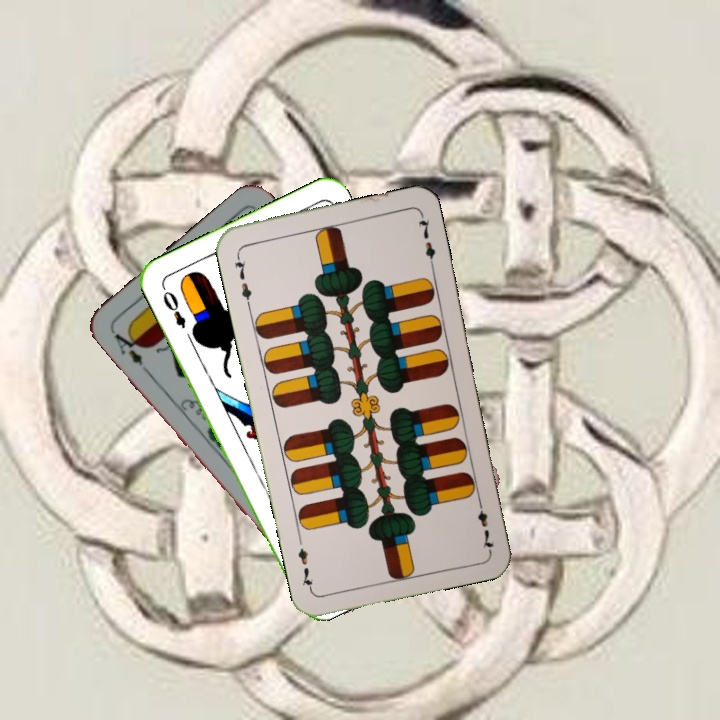E7: (230, 250, 255, 308), (473, 494, 496, 553)
EA: (110, 324, 146, 369)
EO: (158, 282, 189, 331)
